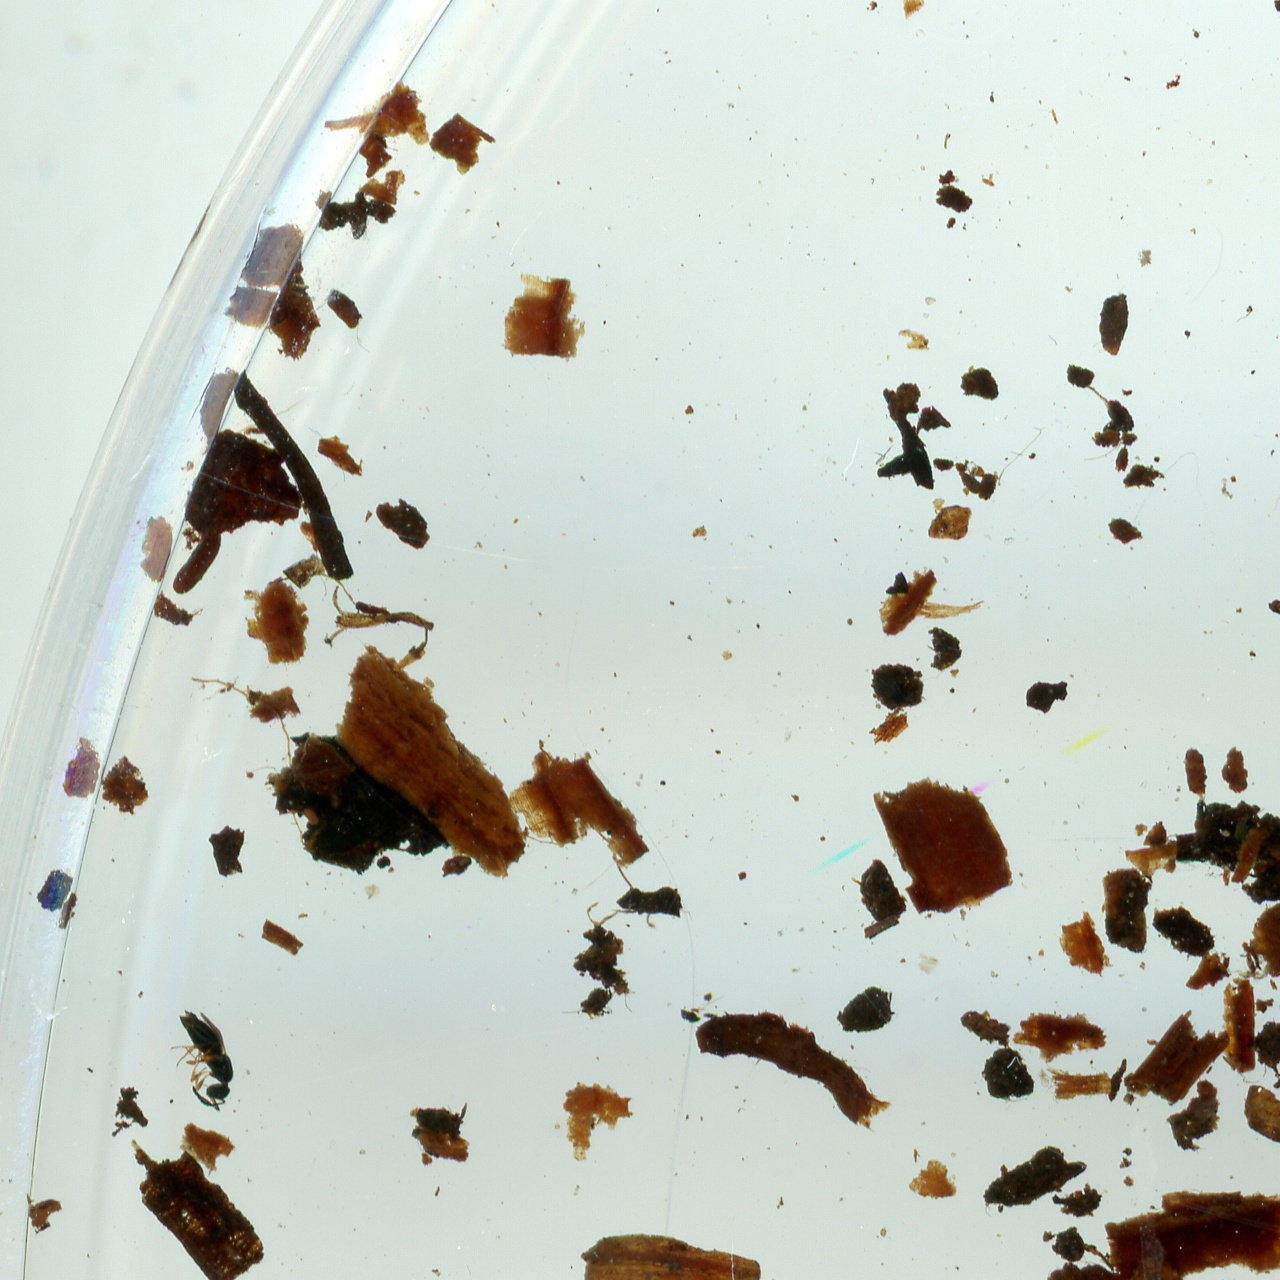arthropod: (168, 1005, 239, 1112)
